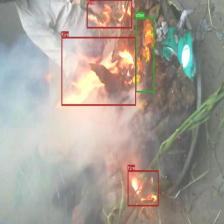fire: (61, 36, 136, 106), (86, 0, 132, 28), (127, 170, 158, 206)
